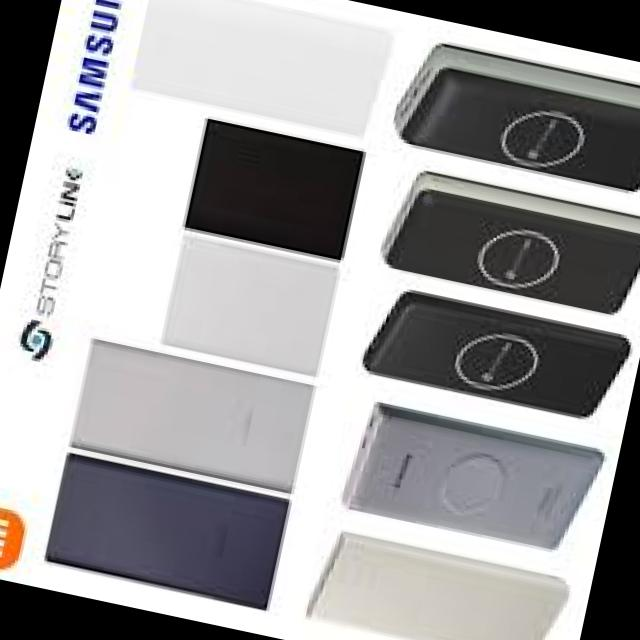portable-charger: (336, 390, 612, 558), (381, 33, 640, 208), (374, 157, 640, 326), (358, 276, 632, 424), (46, 450, 290, 610), (69, 336, 309, 490), (131, 0, 394, 139), (303, 520, 574, 640), (180, 112, 363, 266), (158, 227, 340, 376)
